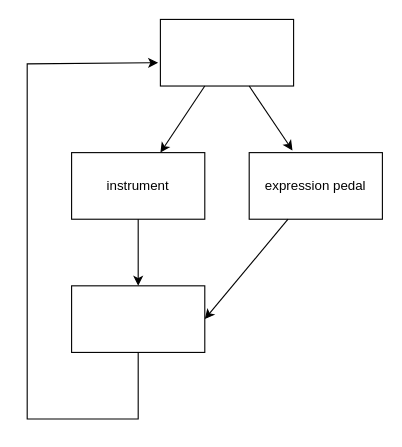
Image size: 402x447. Some labels were removed from this diagram. Here are the shapes that lost their labels. From the top down, the centre of each, then its label:
At (226,52): "performer".
At (137,318): "electronics".
